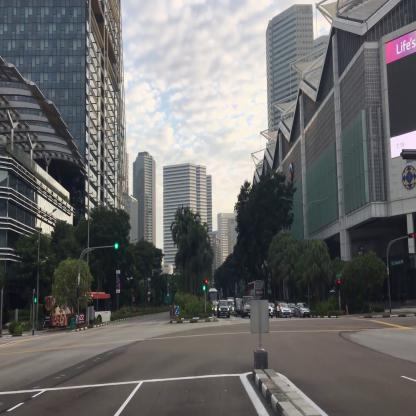green_traffic_light: (114, 244, 123, 247), (203, 279, 205, 290)
